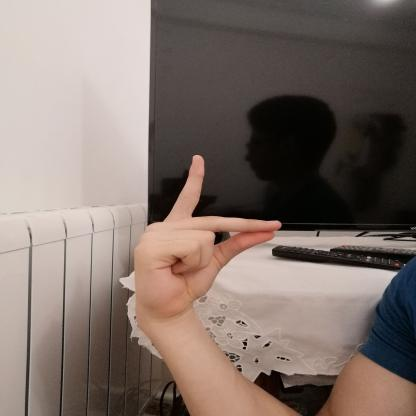TAA: (122, 145, 292, 327)
